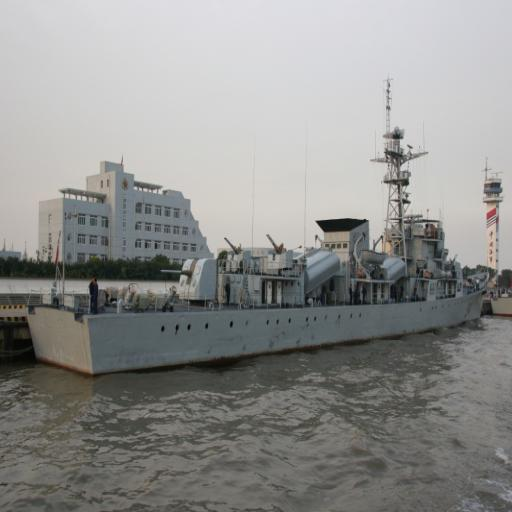Fragata: (12, 46, 497, 382)
